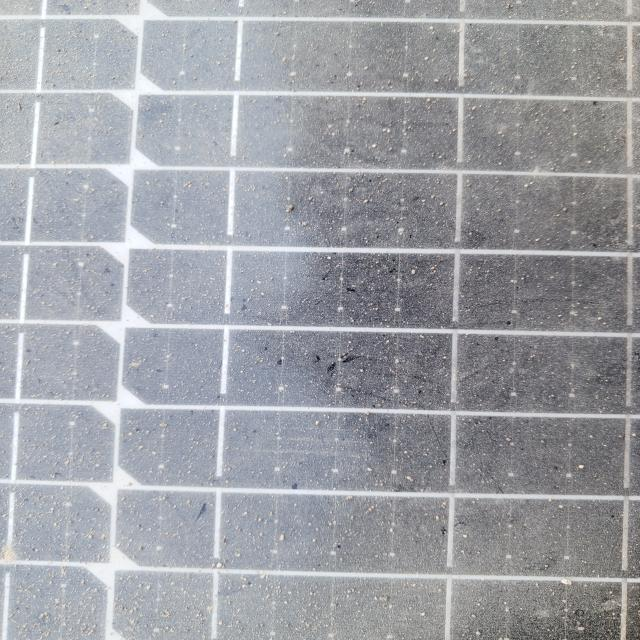Surface Contaminant: (40, 12, 631, 634)
